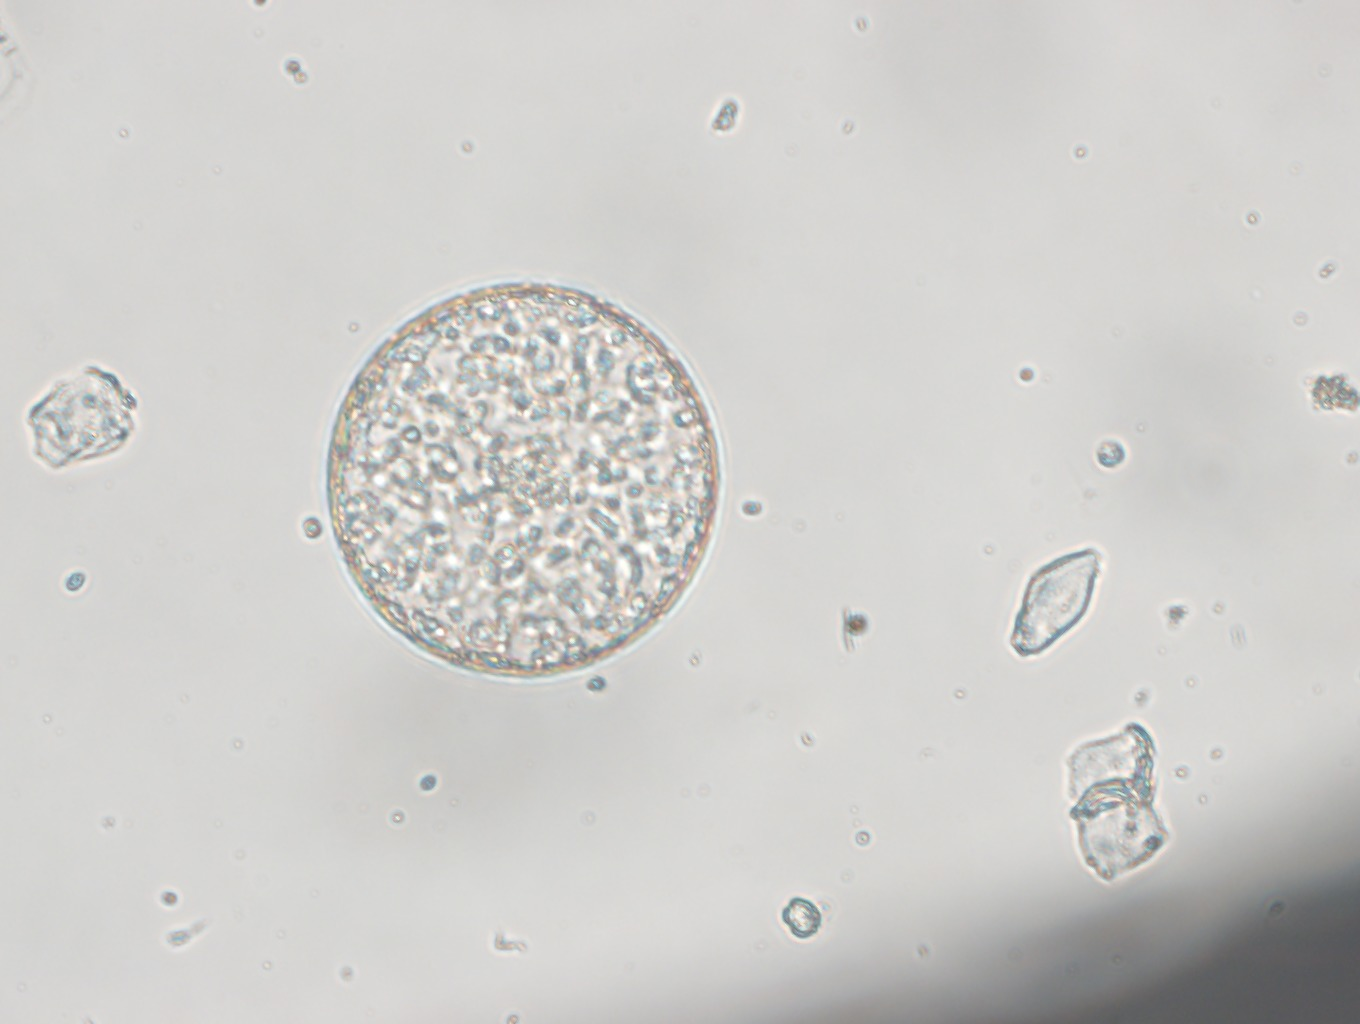coscinodiscus: (324, 278, 724, 687)
